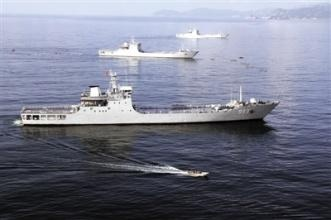otherboat: (186, 169, 208, 178)
warship: (13, 72, 282, 131), (92, 31, 201, 61), (179, 26, 231, 39)
